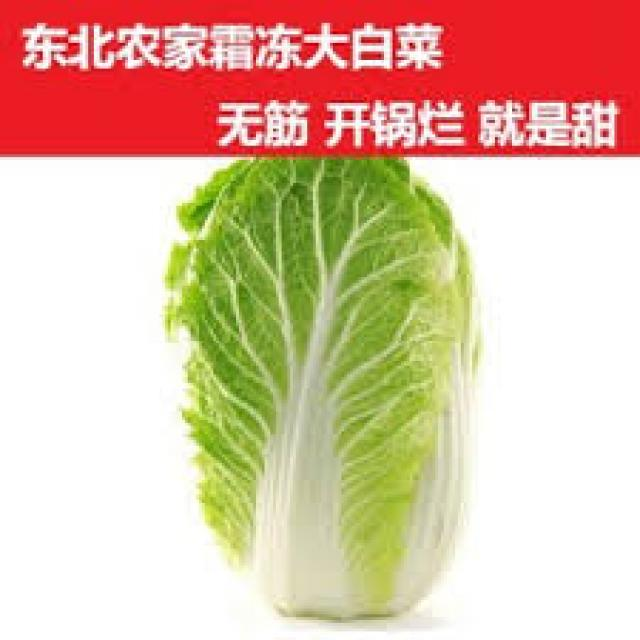organic waste: (159, 155, 475, 614)
